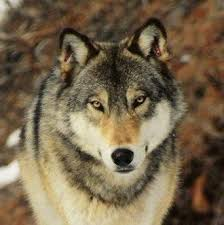wolf: (28, 26, 188, 222)
